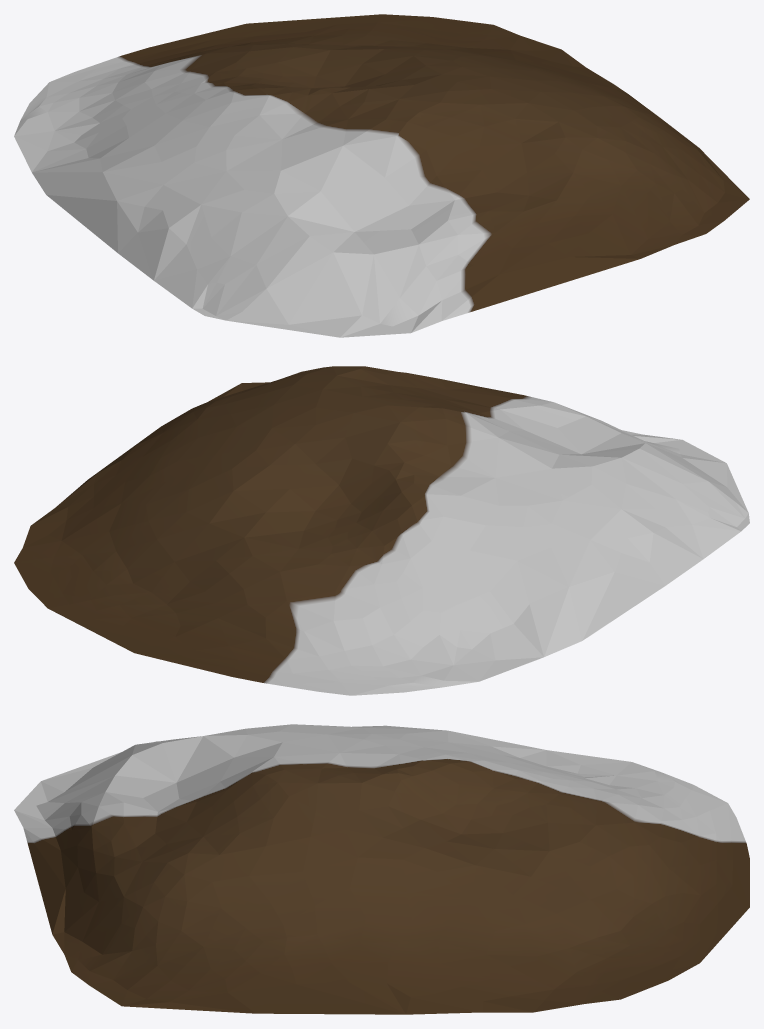
File: Hill_04.fbx
The picture shows the model from 3 angles, top to bottom: view 1: azimuth 30°, elevation 25°; view 2: azimuth 150°, elevation 25°; view 3: azimuth 270°, elevation 25°; orthographic projection. The views are drawn at different scales.
Parts seen in each view (by area): view 1: Hill_04; view 2: Hill_04; view 3: Hill_04.
Part boxes in pixels (x1,y1,x2,y2): Hill_04: (14,14,749,337); Hill_04: (14,366,749,695); Hill_04: (14,724,749,1014).
Bounding box in the file's own units: 19.17 × 3.13 × 21.74.
